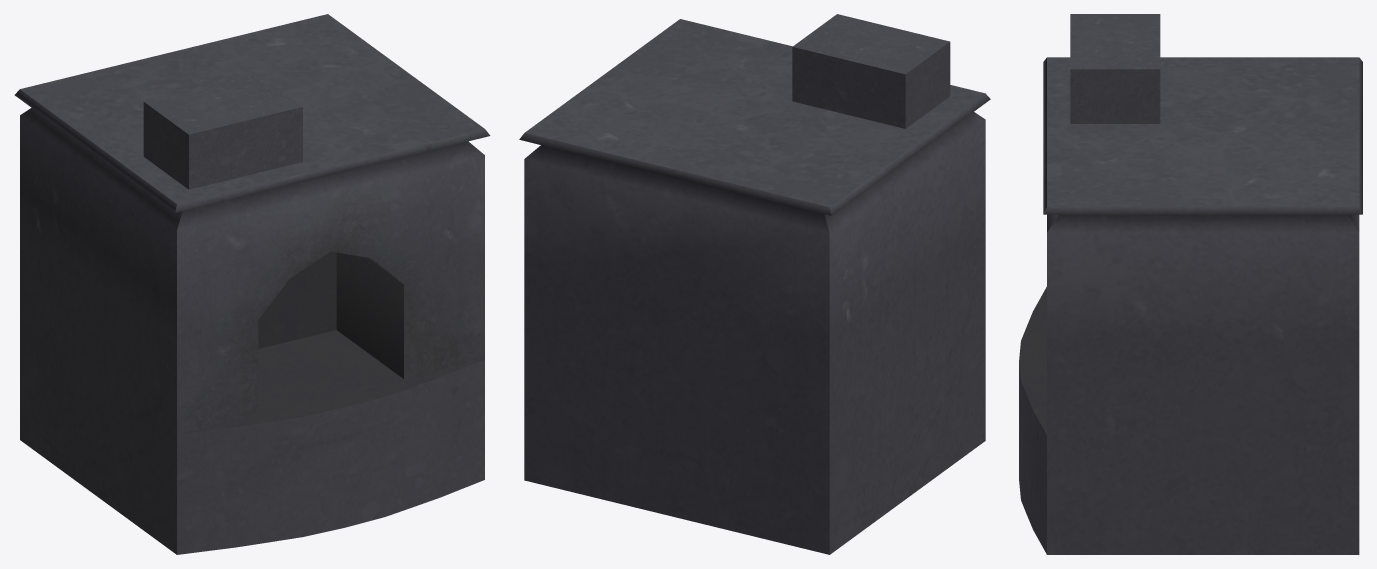
File: smithingfurnance.FBX
3 renders of one model, left to right at view 1: azimuth 30°, elevation 25°; view 2: azimuth 150°, elevation 25°; view 3: azimuth 270°, elevation 25°, orthographic.
Parts seen in each view (by area): view 1: smithingfurnance_2_DONE; view 2: smithingfurnance_2_DONE; view 3: smithingfurnance_2_DONE.
Part boxes in pixels (x1,y1,x2,y2): smithingfurnance_2_DONE: [14, 14, 490, 554]; smithingfurnance_2_DONE: [519, 14, 990, 554]; smithingfurnance_2_DONE: [1019, 14, 1362, 554].
Bounding box in the file's own units: 2.19 × 2.7 × 2.09.
